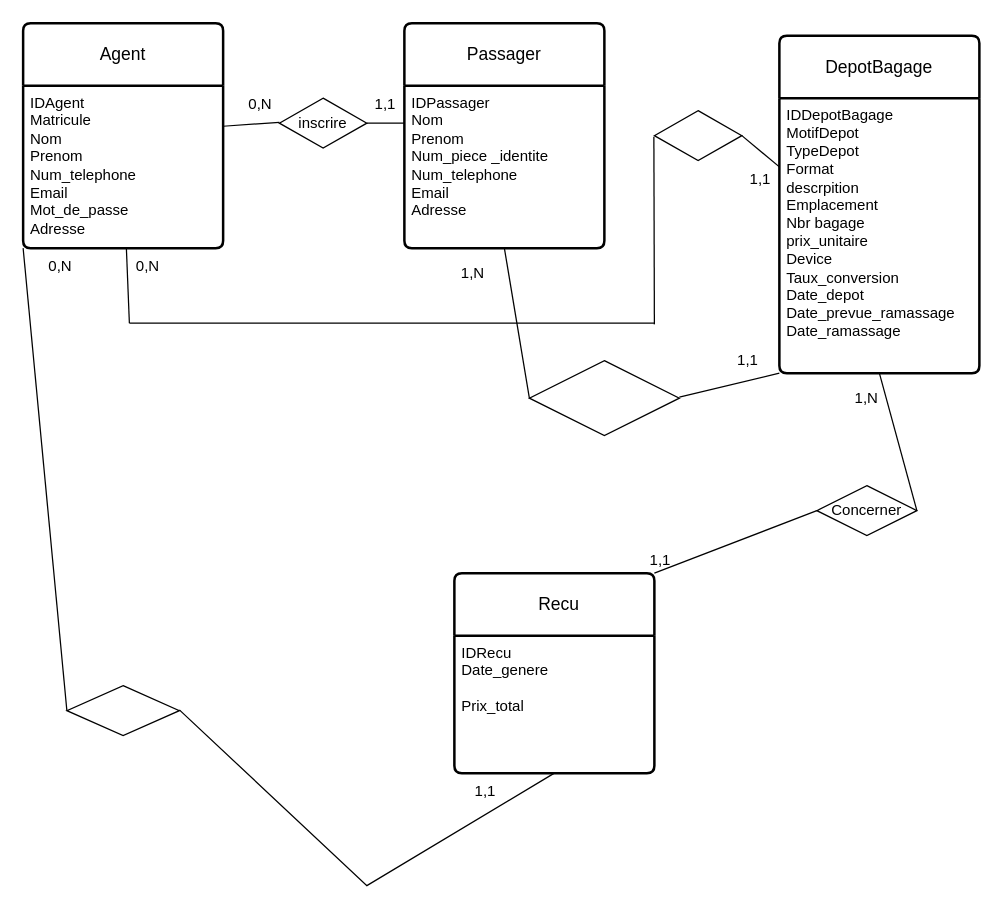
The diagram is 1001 pixels wide and 909 high, and some of its shapes have lost their labels. Here are the shapes that lost their labels. From the top down, the box of each, then its label:
(653, 109, 742, 161): enregistrer
(528, 359, 679, 436): Faire
(66, 684, 179, 736): Fournir
